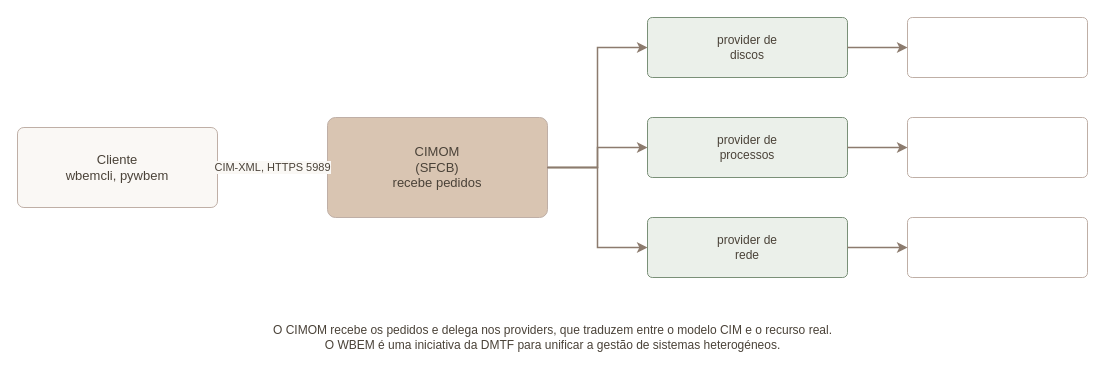
Image size: 1105x385. Some labels were removed from this diagram. The centre of each missing label's shape, as x and y in pixels:
"discos" belongs at [997,47].
"interfaces" belongs at [997,247].
"processos" belongs at [997,147].
